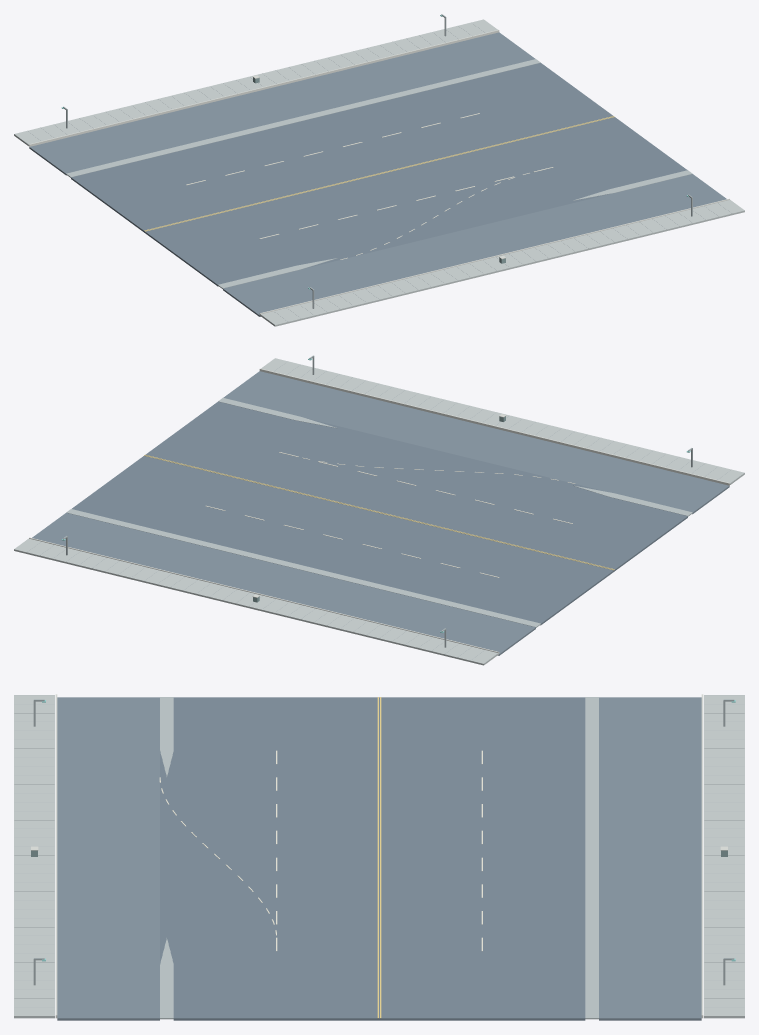
File: city-w98-s39.glb
3 renders of one model, top to bottom at view 1: azimuth 30°, elevation 25°; view 2: azimuth 150°, elevation 25°; view 3: azimuth 270°, elevation 25°, orthographic. The views are drawn at different scales.
Visible parts, largest first — view 1: Main_road, Frontage_roads, Sidewalk, Medians, Curbs, Merge_surface, Paving_joints, Center_lines; view 2: Main_road, Frontage_roads, Sidewalk, Medians, Curbs, Merge_surface, Paving_joints, Center_lines; view 3: Main_road, Frontage_roads, Sidewalk, Medians, Paving_joints, Merge_surface, Curbs, Center_lines.
Boxes of the visible parts, <box> form: Main_road: <box>71,63,687,286</box>; Frontage_roads: <box>29,32,726,316</box>; Sidewalk: <box>14,19,744,326</box>; Medians: <box>66,59,692,288</box>; Curbs: <box>29,29,729,315</box>; Merge_surface: <box>303,190,612,268</box>; Paving_joints: <box>14,22,731,324</box>; Center_lines: <box>144,116,614,231</box>; Main_road: <box>72,401,687,625</box>; Frontage_roads: <box>32,371,729,655</box>; Sidewalk: <box>14,358,744,665</box>; Medians: <box>66,398,692,627</box>; Curbs: <box>29,368,729,654</box>; Merge_surface: <box>298,418,608,496</box>; Paving_joints: <box>27,361,743,663</box>; Center_lines: <box>144,454,614,570</box>; Main_road: <box>173,697,585,1020</box>; Frontage_roads: <box>57,697,701,1020</box>; Sidewalk: <box>14,695,744,1018</box>; Medians: <box>160,697,598,1019</box>; Paving_joints: <box>14,695,744,1007</box>; Merge_surface: <box>160,751,173,964</box>; Curbs: <box>55,694,703,1018</box>; Center_lines: <box>377,697,381,1018</box>.
Bounding box in the file's own units: 72 × 3.26 × 69.3.
